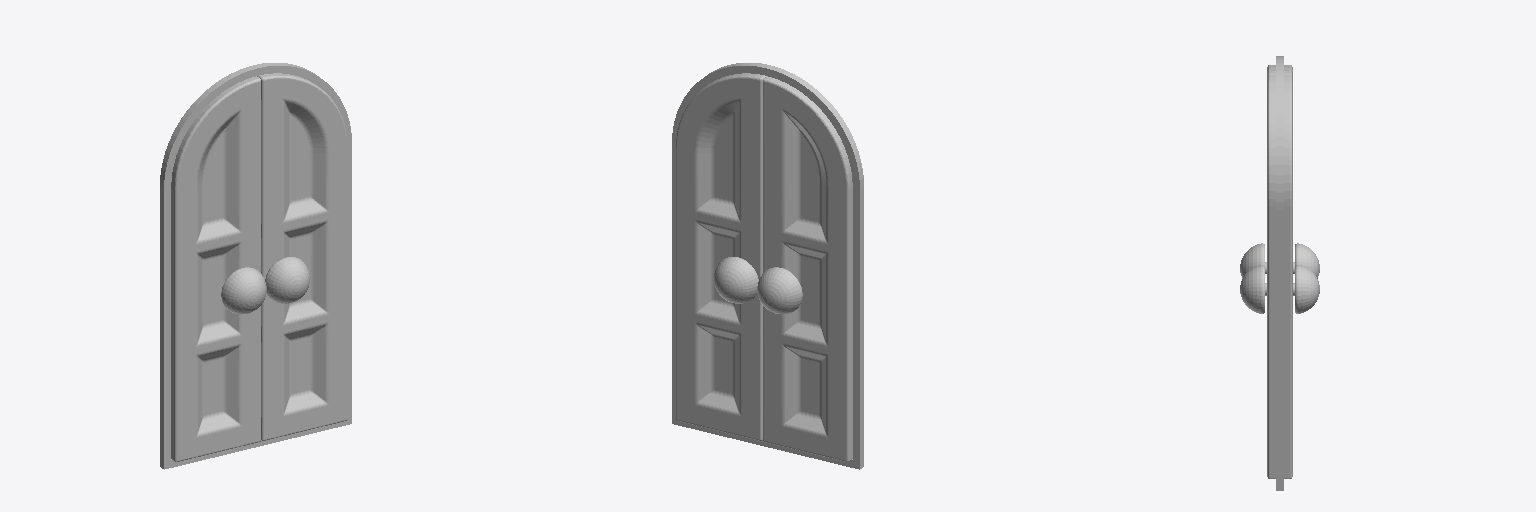
The model's file is door1.obj.
3 views of the same model, side by side, from view 1: azimuth 30°, elevation 25°; view 2: azimuth 150°, elevation 25°; view 3: azimuth 270°, elevation 25° (orthographic).
Parts seen in each view (by area): view 1: Right, Left, Frame, RightKnob, LeftKnob; view 2: Right, Left, Frame, RightKnob, LeftKnob; view 3: Left, Frame, LeftKnob, RightKnob.
Part boxes in pixels (left/top/right/bottom): Right: left=171, top=76, right=260, bottom=461; Left: left=257, top=73, right=347, bottom=440; Frame: left=160, top=63, right=351, bottom=469; RightKnob: left=221, top=267, right=266, bottom=313; LeftKnob: left=265, top=257, right=309, bottom=303; Right: left=763, top=76, right=852, bottom=461; Left: left=676, top=73, right=766, bottom=440; Frame: left=672, top=63, right=863, bottom=469; RightKnob: left=757, top=267, right=802, bottom=313; LeftKnob: left=714, top=257, right=758, bottom=303; Left: left=1267, top=75, right=1292, bottom=478; Frame: left=1276, top=56, right=1283, bottom=490; LeftKnob: left=1240, top=265, right=1319, bottom=313; RightKnob: left=1240, top=243, right=1319, bottom=278.
Size of the model in its own units: 0.8667 by 1.67 by 0.3183.